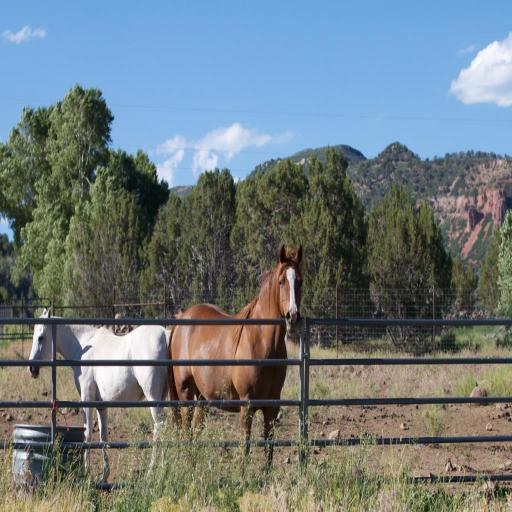horse: (165, 244, 304, 480), (28, 306, 170, 477)
